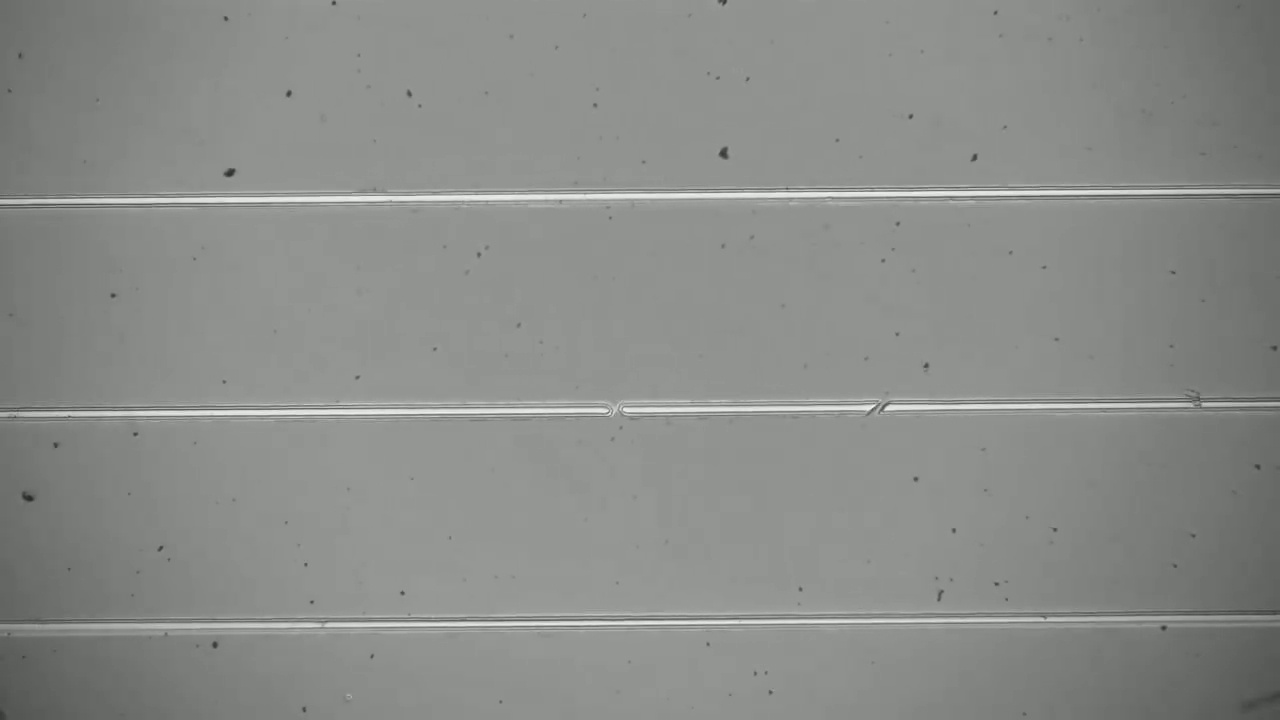open: (856, 385, 899, 428), (593, 394, 638, 425)
stains_enbedded: (1173, 381, 1216, 419)
